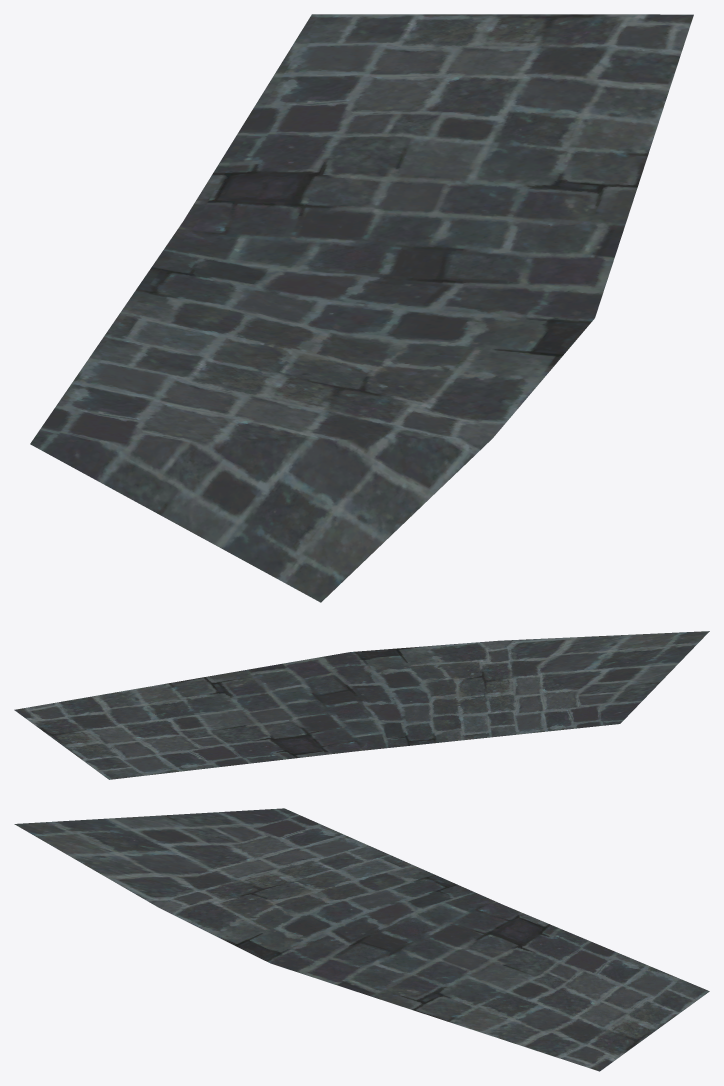
The model's file is blend_brick07.fbx.
The picture shows the model from 3 angles, top to bottom: view 1: azimuth 30°, elevation 25°; view 2: azimuth 150°, elevation 25°; view 3: azimuth 270°, elevation 25°; orthographic projection. The views are drawn at different scales.
Parts seen in each view (by area): view 1: obj0.006; view 2: obj0.006; view 3: obj0.006.
Boxes of the visible parts, left/top/right/bottom form: obj0.006: left=30, top=14, right=693, bottom=602; obj0.006: left=14, top=631, right=709, bottom=779; obj0.006: left=14, top=808, right=709, bottom=1071.
Size of the model in its own units: 5.48 by 6.93e-07 by 6.12.
